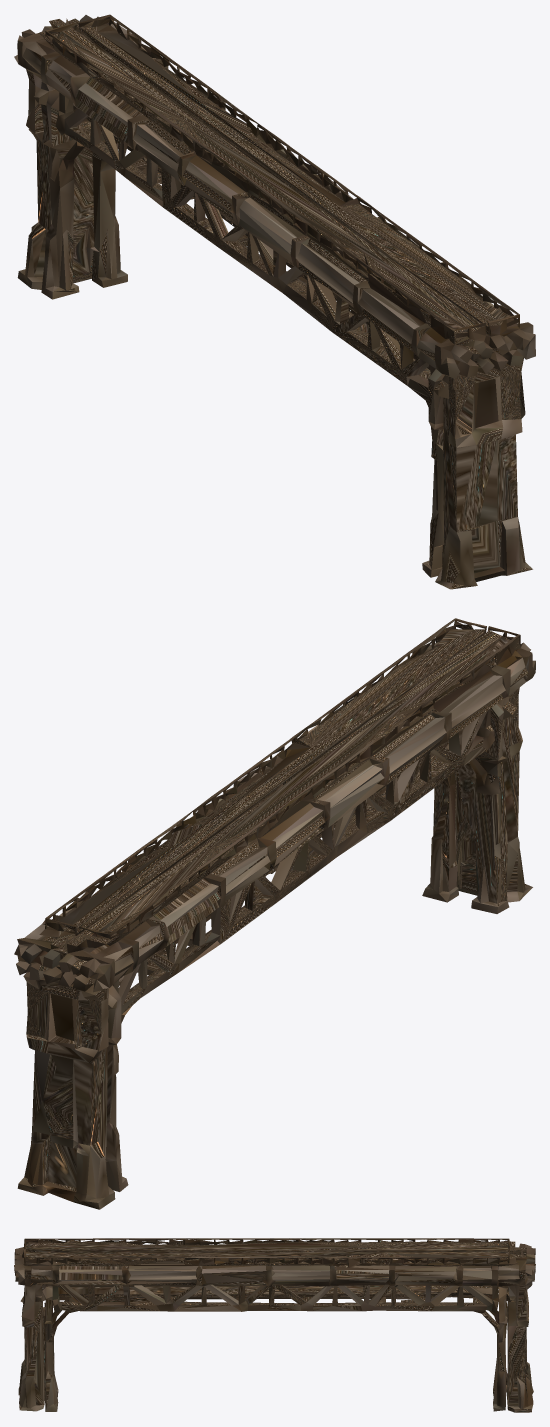
File: f03_far.glb
3 views of the same model, one above another, from view 1: azimuth 30°, elevation 25°; view 2: azimuth 150°, elevation 25°; view 3: azimuth 270°, elevation 25° (orthographic). The views are drawn at different scales.
Parts seen in each view (by area): view 1: f03_far; view 2: f03_far; view 3: f03_far.
Boxes of the visible parts, x1=… form: f03_far: x1=14, y1=14, x2=535, y2=589; f03_far: x1=14, y1=618, x2=535, y2=1209; f03_far: x1=14, y1=1238, x2=535, y2=1412.
Size of the model in its own units: 3.04 by 8 by 24.62.
Materials: 1 (1 with a texture image).
